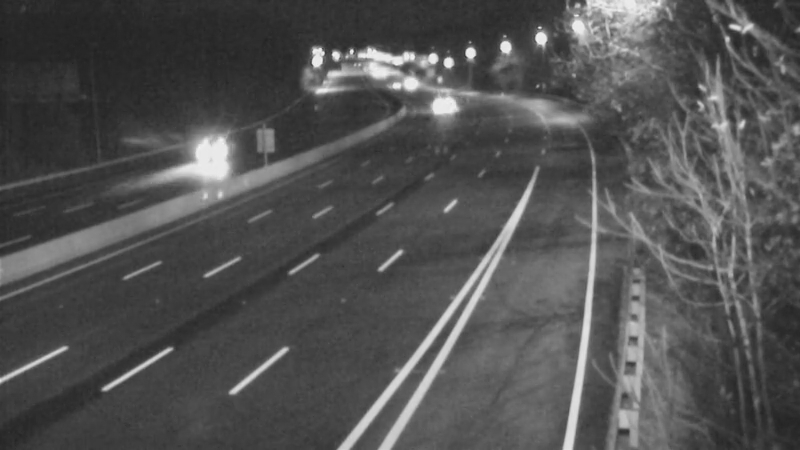vehicle: (163, 112, 243, 192), (384, 57, 434, 107), (367, 61, 417, 111), (413, 78, 463, 128)
